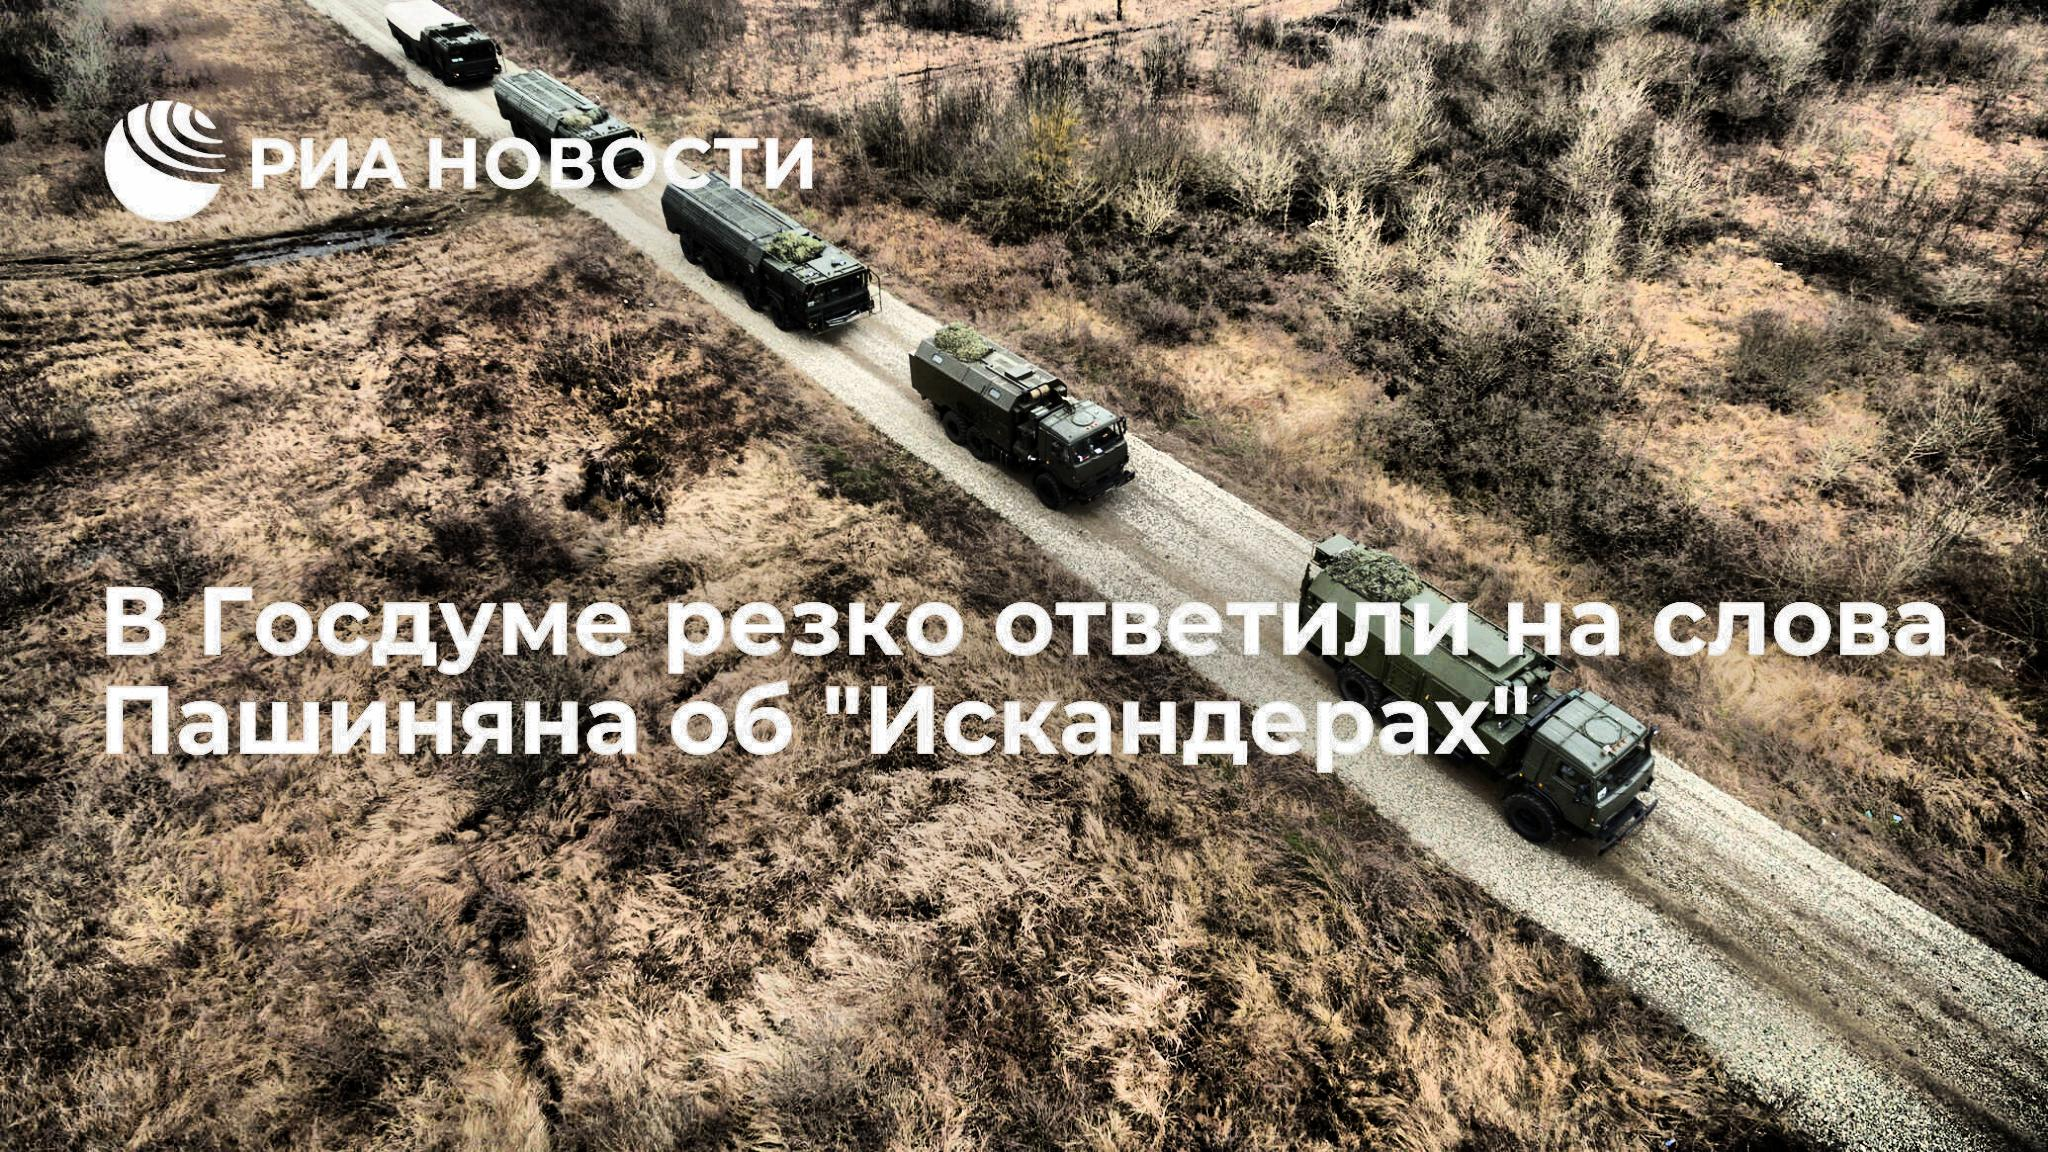military-vehicle: (914, 326, 1129, 509), (663, 172, 879, 331), (499, 75, 647, 181), (383, 0, 499, 83), (1152, 511, 1152, 512)
